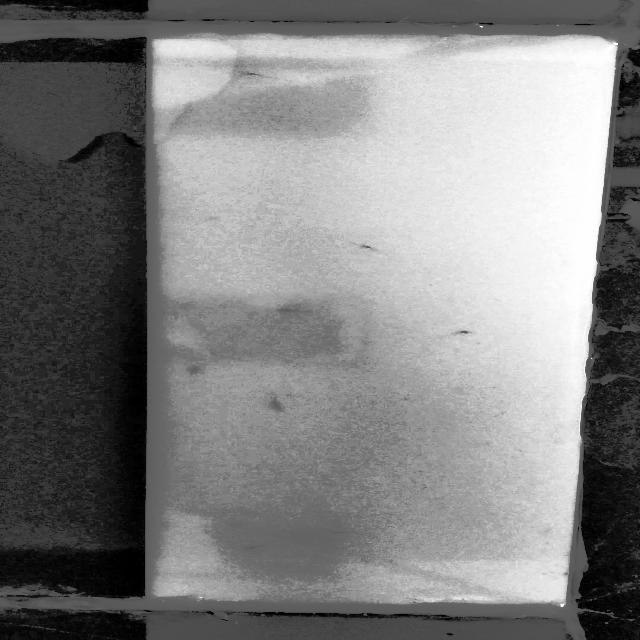shrimp: (346, 238, 385, 255), (242, 68, 280, 81), (264, 398, 287, 414), (444, 327, 479, 336), (188, 366, 214, 376), (276, 305, 301, 314), (324, 527, 355, 534), (240, 543, 266, 550)
